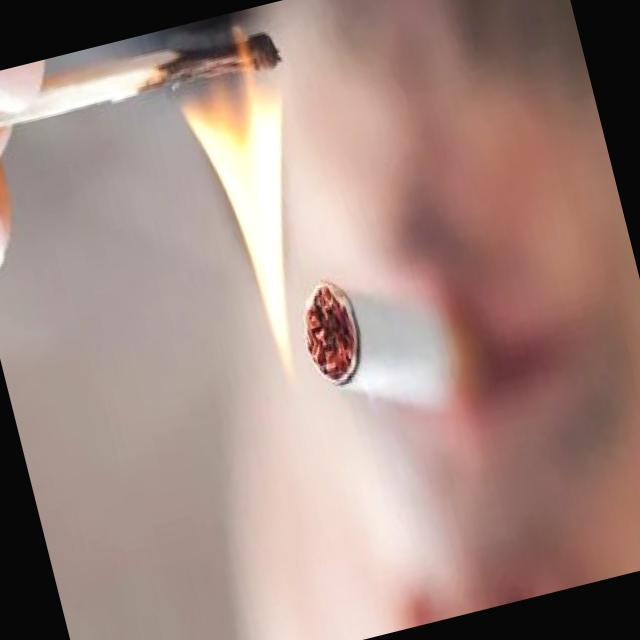cigarette: (284, 234, 506, 459)
